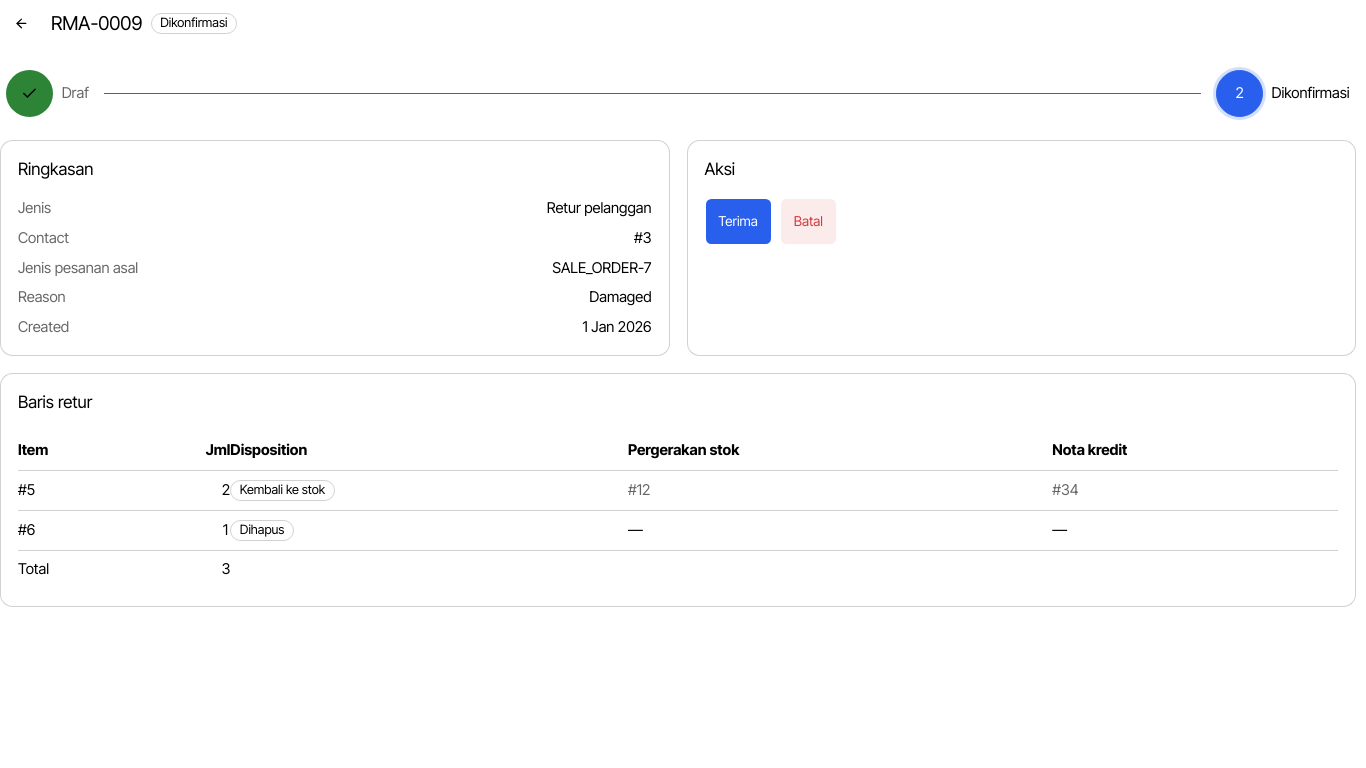
Scenario: RmaDetailSection remainder › opens the receive dialog for a confirmed rma
Check: the heading "RMA-0009" is shown, box [51,8,142,38]
What coordinates should you click on to do the following:
click the button "Terima"
I would click on:
 (738, 222)
Its box is [704,198,772,245].
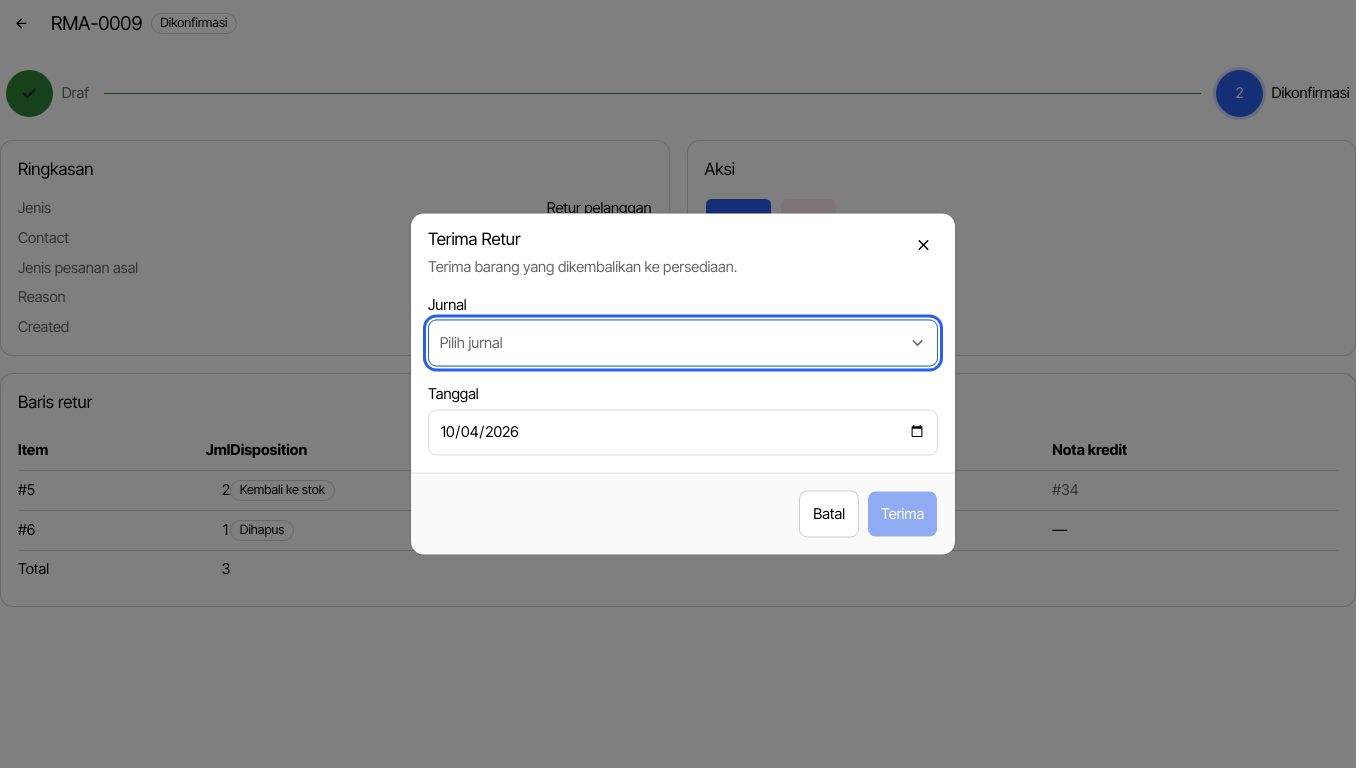
Check: the heading "Terima Retur" is shown, box [428,228,520,248]
